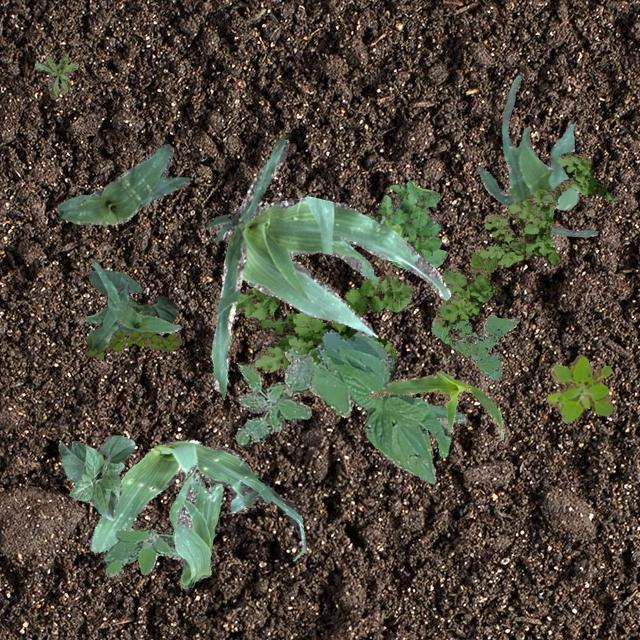crop: (204, 134, 450, 398), (284, 328, 464, 482), (88, 438, 306, 558), (476, 74, 596, 236), (57, 142, 191, 225), (366, 369, 504, 438), (84, 258, 180, 350), (168, 463, 222, 588), (58, 434, 134, 518), (84, 268, 176, 322)
weed: (434, 150, 612, 327), (210, 274, 412, 396), (235, 352, 312, 446), (366, 178, 446, 266), (431, 314, 518, 378), (546, 354, 612, 422), (102, 528, 180, 576), (88, 328, 180, 358), (34, 52, 76, 98)
